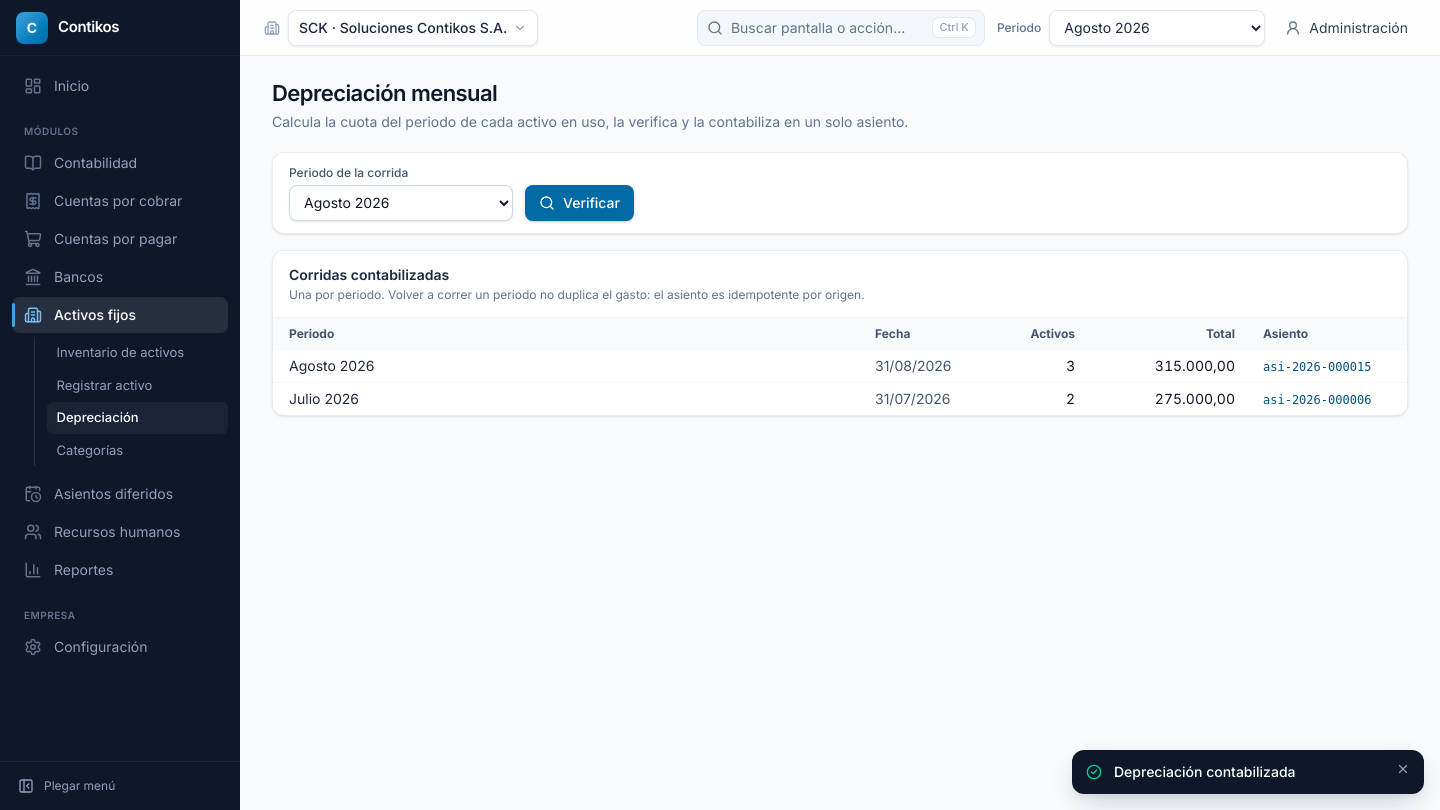
Scenario: Depreciación de activos › setiembre avisa de lo que falta y exige confirmar los avisos
Select "Octubre 2026" in the dropdown labelled "Periodo de la corrida" at (401, 202), box top-left (289, 184), bottom-right (513, 220)
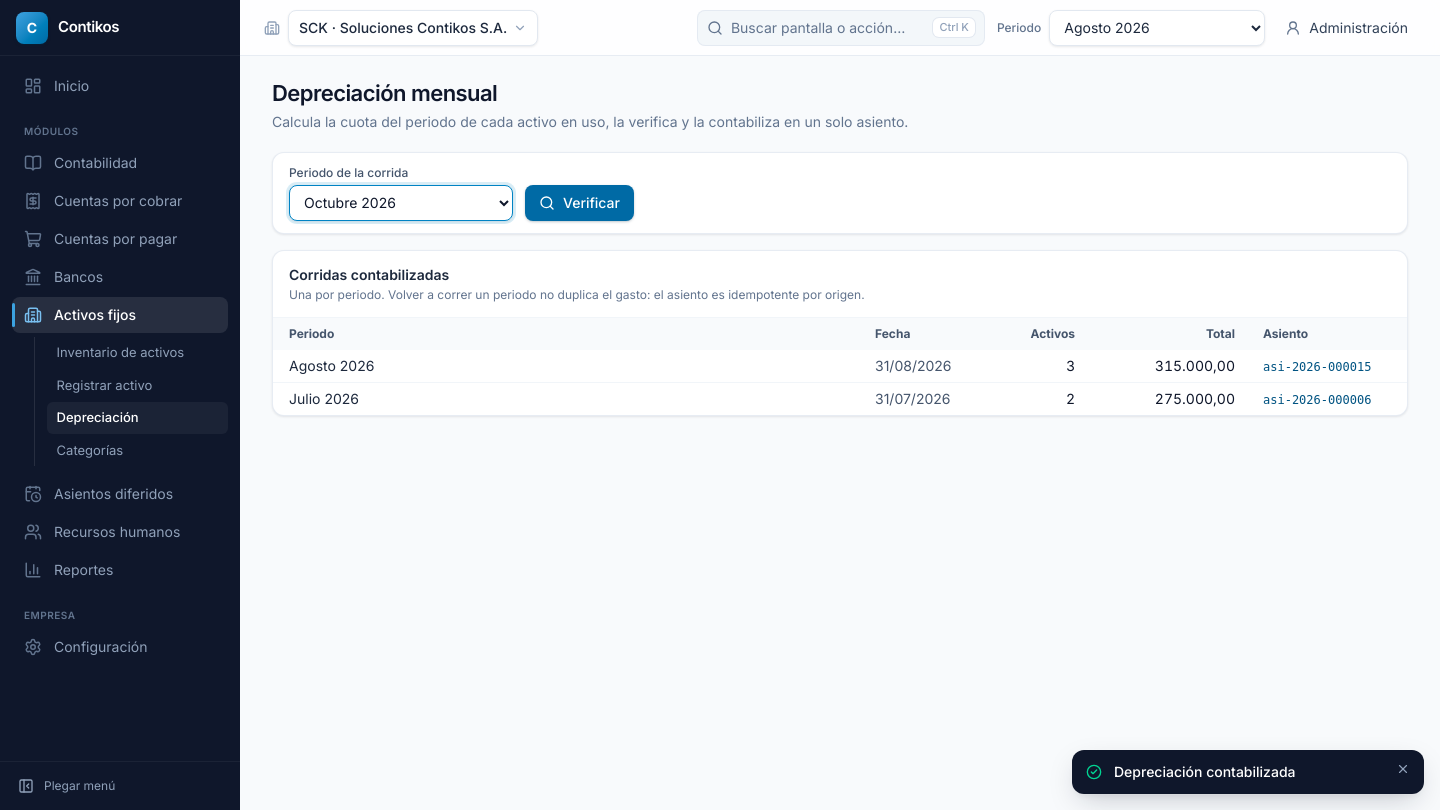
Click the button "Verificar".
click(579, 202)  # box top-left (525, 184), bottom-right (634, 220)
(page scrolled)
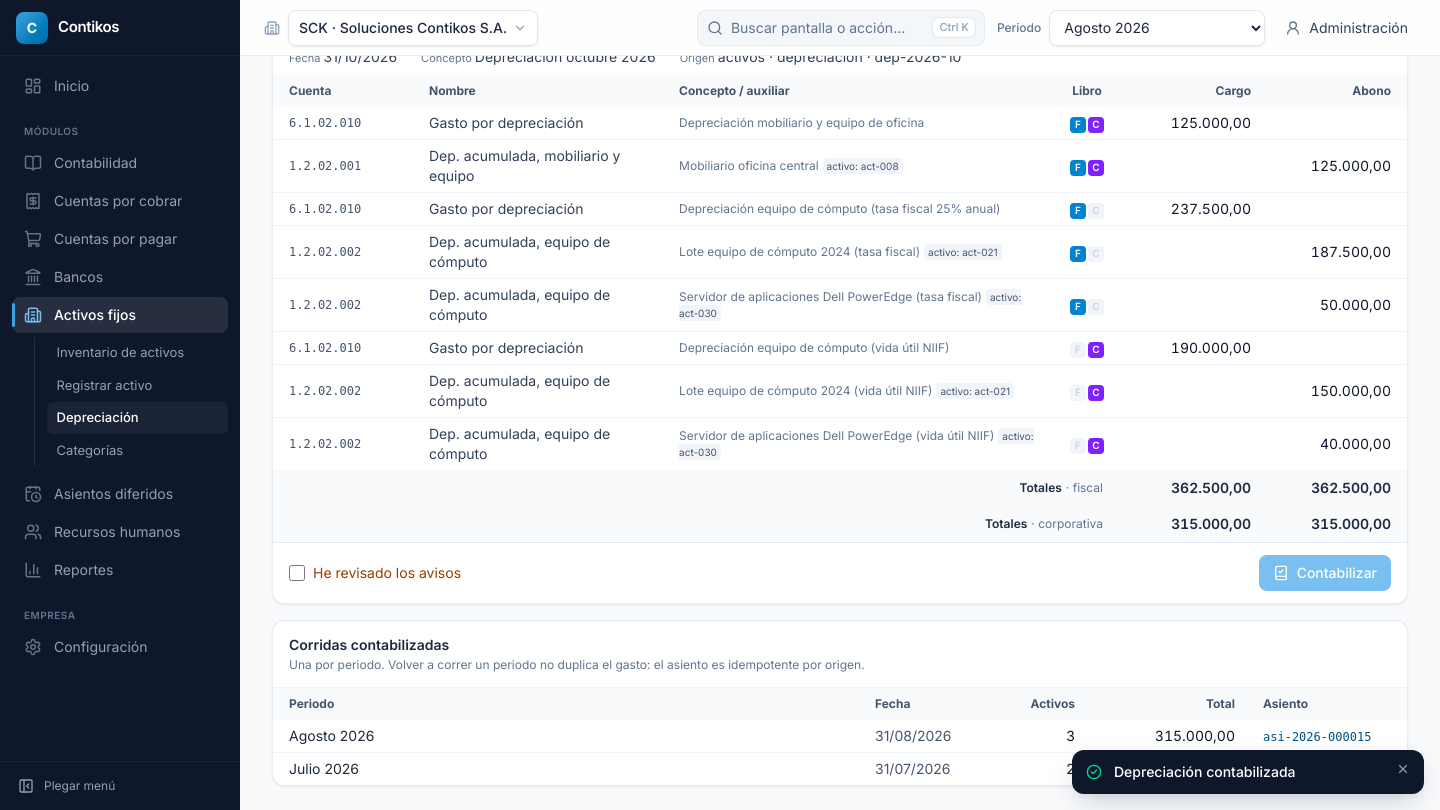
Check: the button "Contabilizar" is disabled, box top-left (1259, 555), bottom-right (1391, 591)
Click the checkbox labelled "He revisado los avisos".
click(297, 573)  # box top-left (289, 565), bottom-right (305, 581)
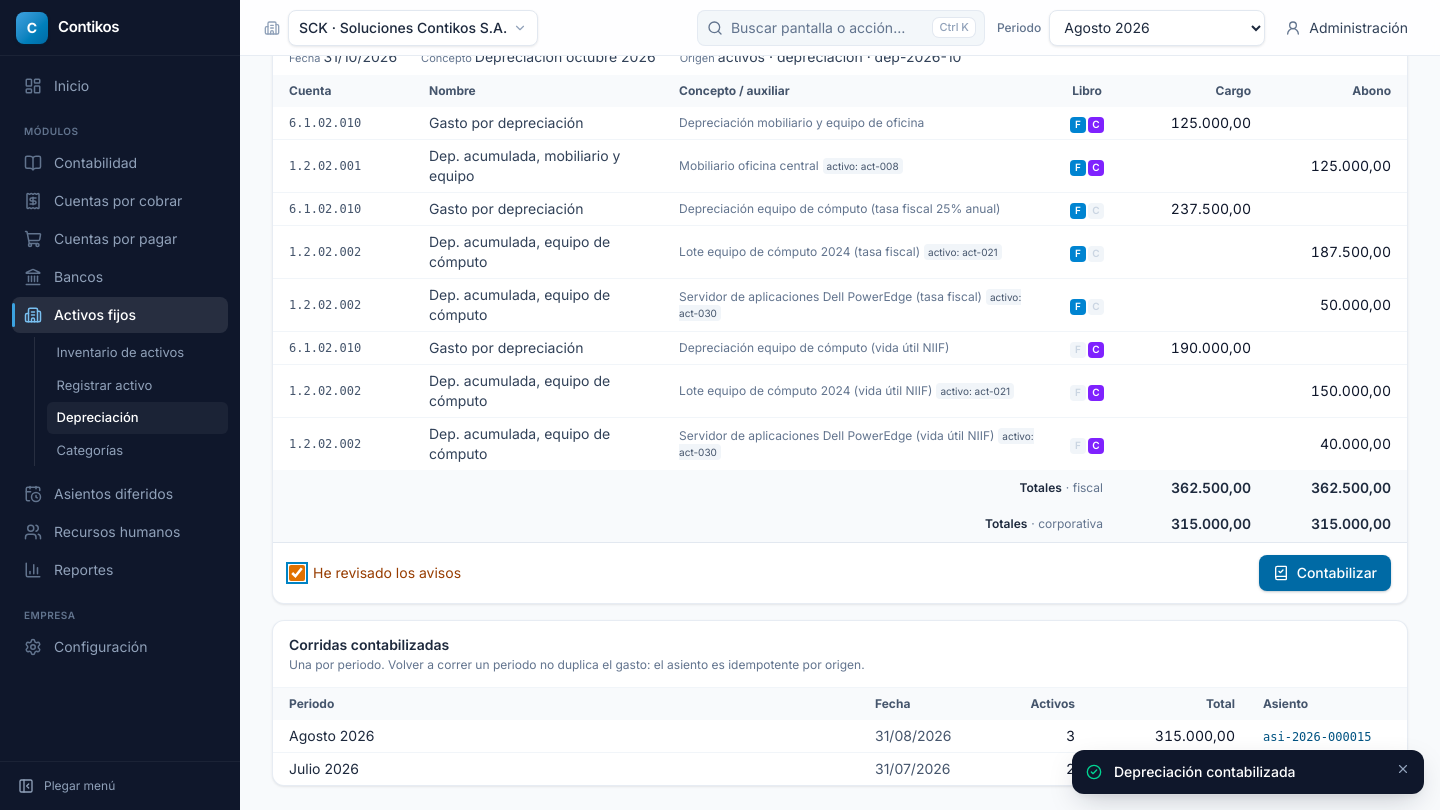
Check: the button "Contabilizar" is enabled, box top-left (1259, 555), bottom-right (1391, 591)
